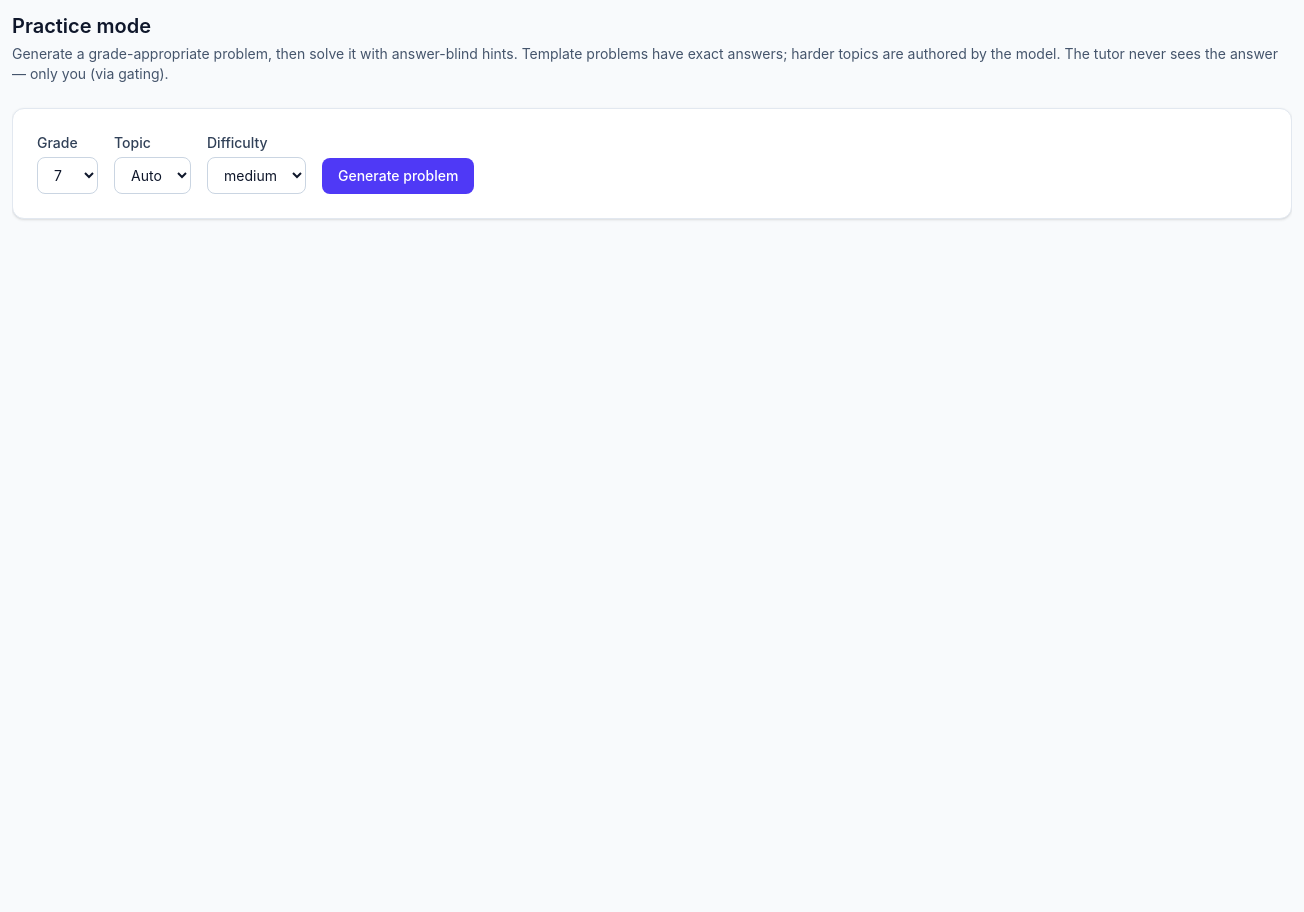
Test: admin › does not show the solve control to non-admins
Step 1. Click the button "Generate problem" → click(398, 176), box 322,158 -> 474,194
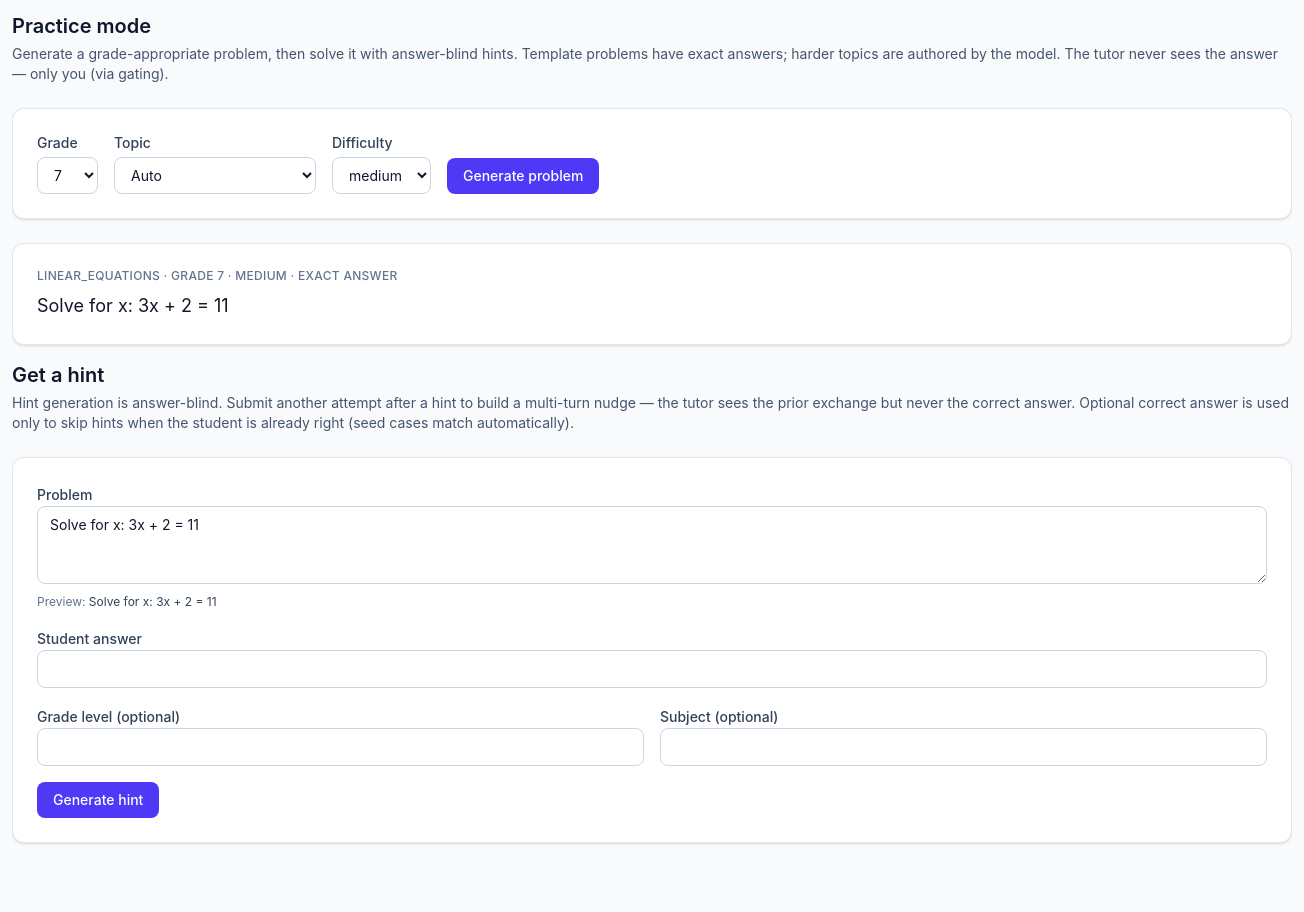
Expected: the text "Solve for x: 3x + 2 = 11" below "linear_equations" is shown, 37,295 -> 229,316
